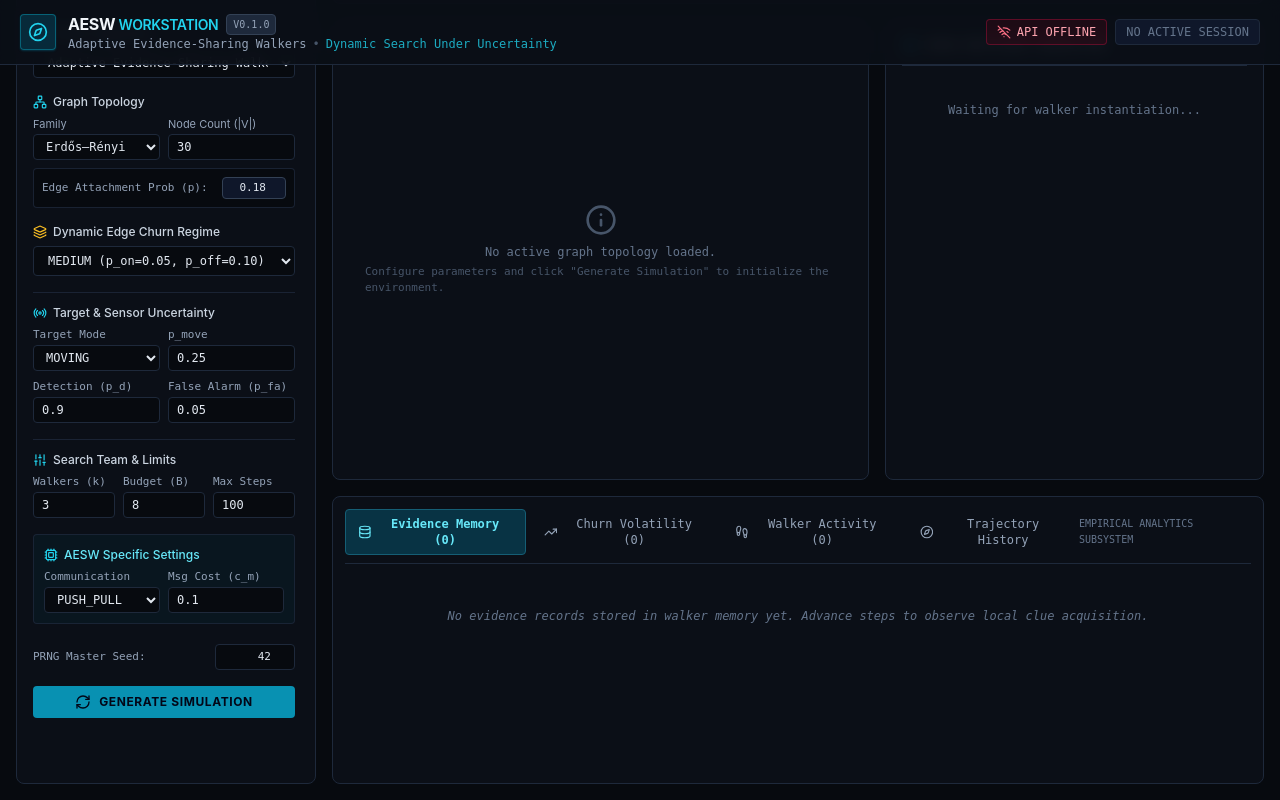
Test: AESW Research Workstation Frontend › 10. Non-AESW algorithm adapts UI to baseline inspector and renders candidate ranking when stepped
This screenshot has width=1280, height=800.
(page scrolled)
Click the button "Generate Simulation".
click(164, 702)  # box top-left (33, 686), bottom-right (295, 718)
(page scrolled)
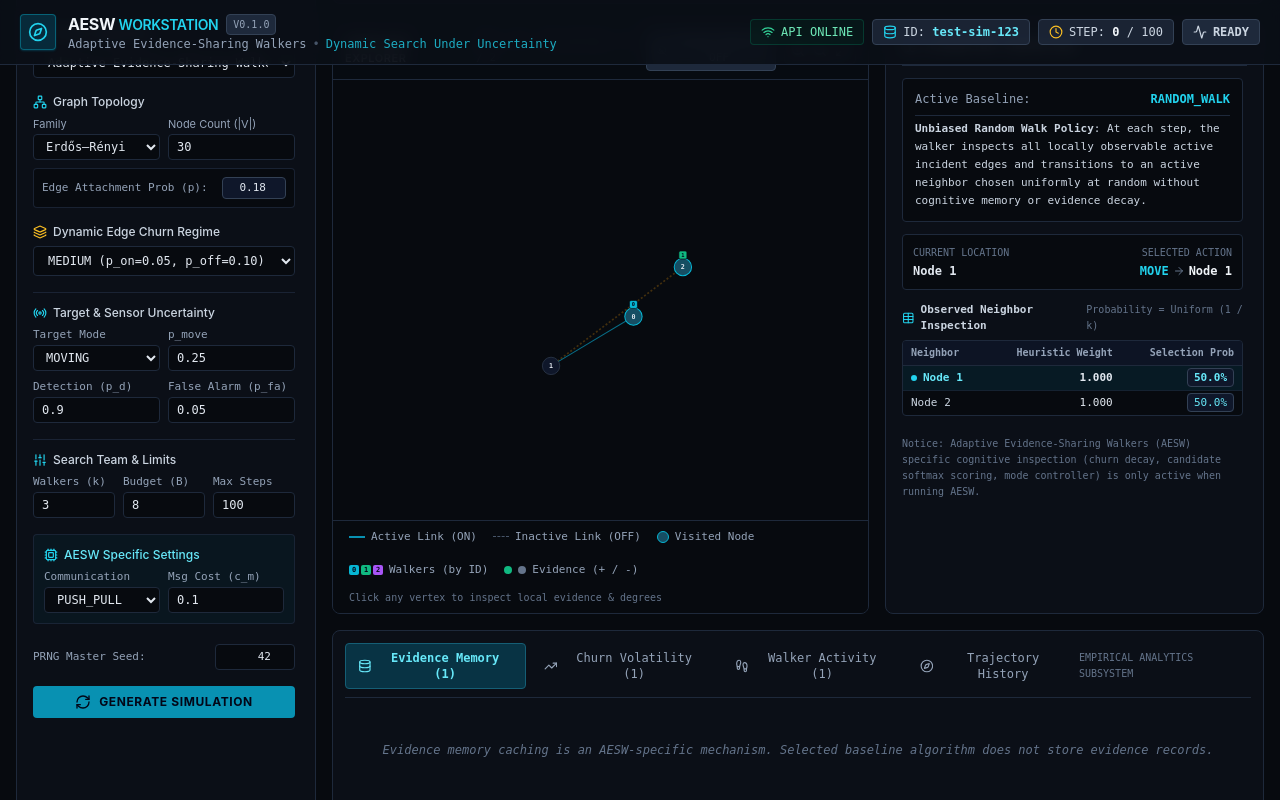
Now the heading "Algorithm Inspector" is shown, box top-left (926, 37), bottom-right (1075, 53)
Now the text "Unbiased Random Walk Policy" is shown, box top-left (915, 122), bottom-right (1094, 135)
Now the text "Observed Neighbor Inspection" is shown, box top-left (902, 303), bottom-right (1033, 332)
// Check Walker Activity tab displays baseline data
Click the button "Walker Activity (1)".
click(812, 666)  # box top-left (723, 644), bottom-right (902, 688)
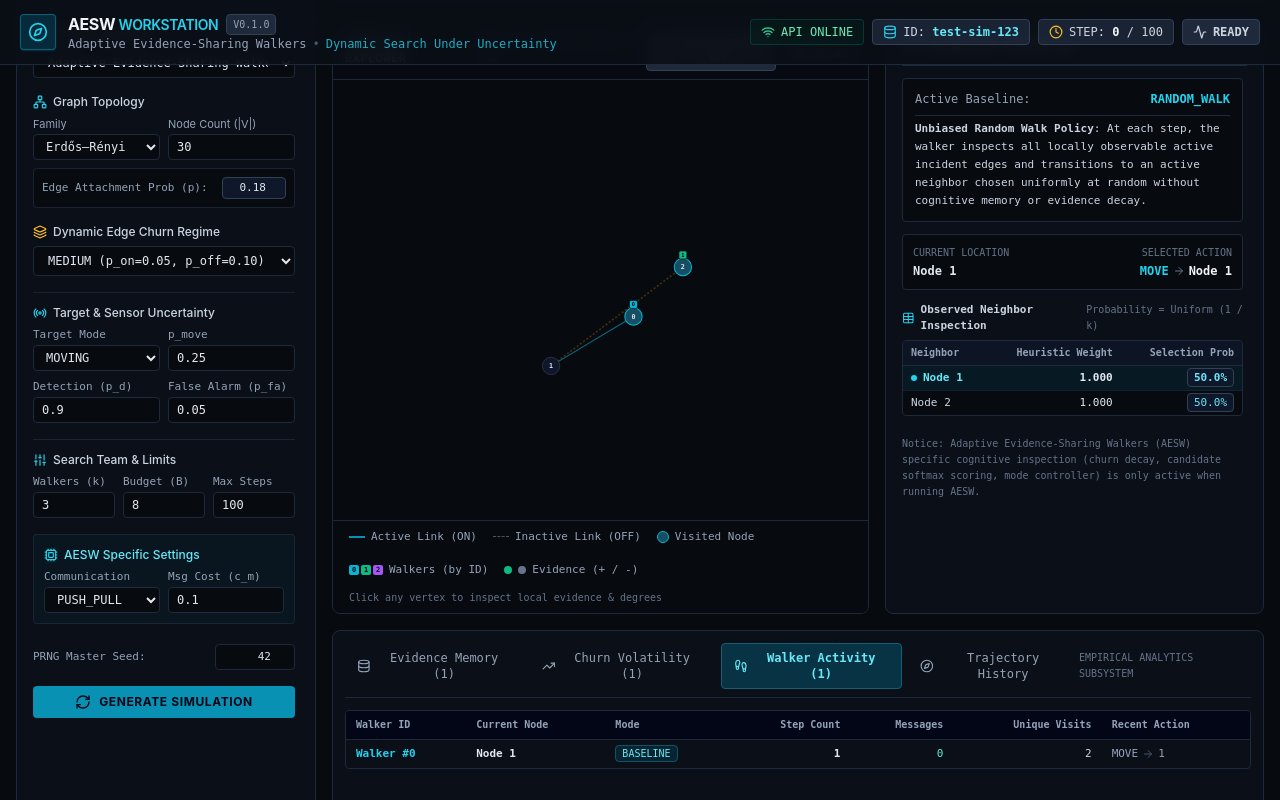
Now the text "Walker #0" is shown, box top-left (346, 740), bottom-right (466, 768)
